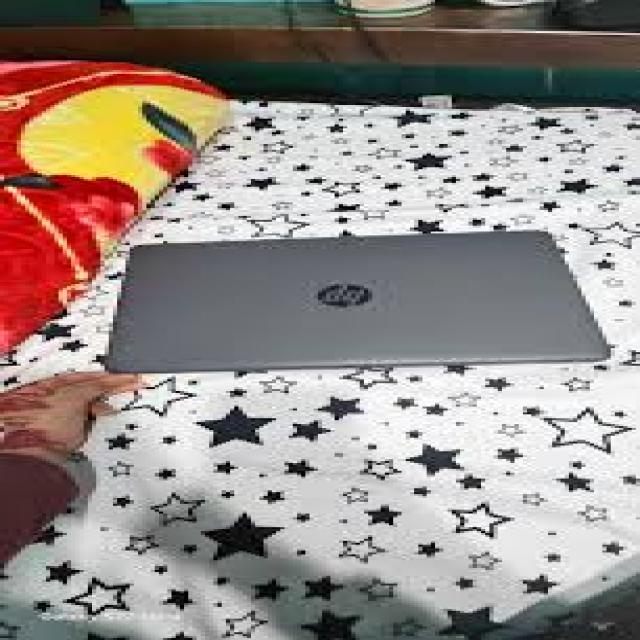laptop: (96, 228, 615, 374)
